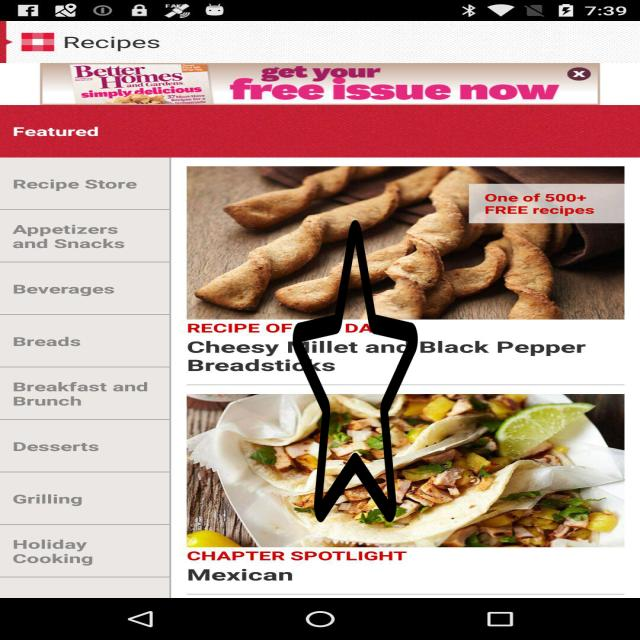forced continuity: (293, 213, 418, 529)
